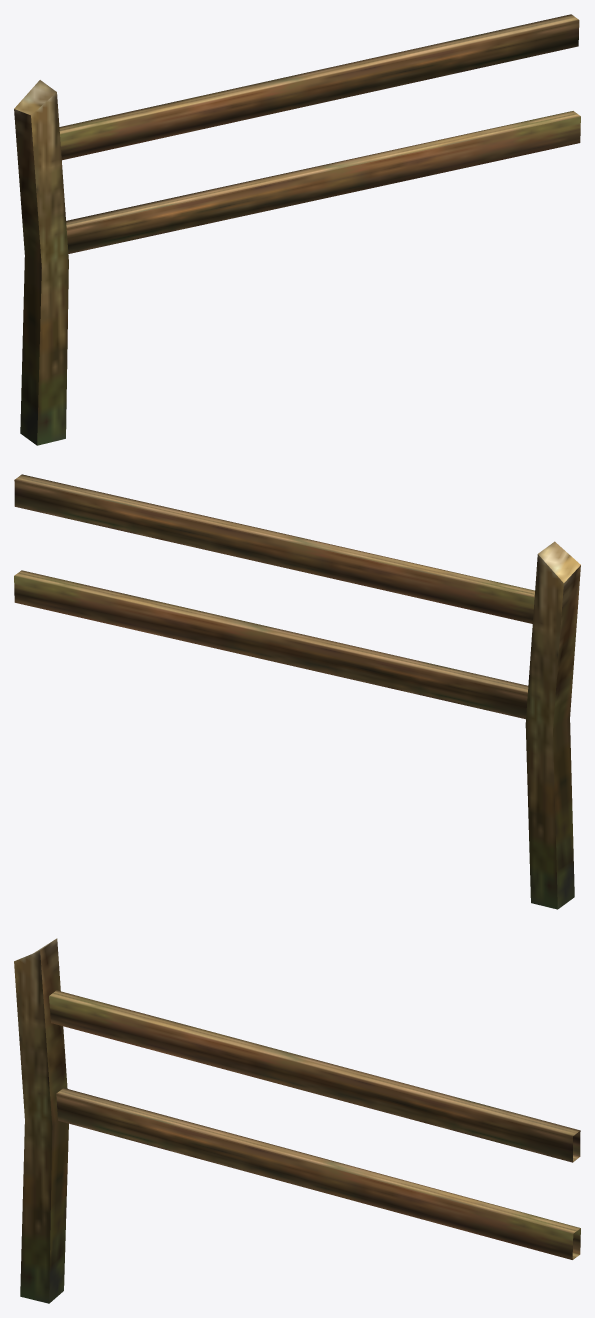
File: general_obj_fence03.fbx
3 views of the same model, one above another, from view 1: azimuth 30°, elevation 25°; view 2: azimuth 150°, elevation 25°; view 3: azimuth 330°, elevation 25° (orthographic).
Visible parts, largest first — view 1: Sphere01; view 2: Sphere01; view 3: Sphere01.
Boxes of the visible parts, x1,y1,x2,y2 form: Sphere01: [14, 14, 580, 445]; Sphere01: [14, 474, 580, 909]; Sphere01: [14, 938, 580, 1303].
Size of the model in its own units: 3.77 by 2.27 by 0.2005.
